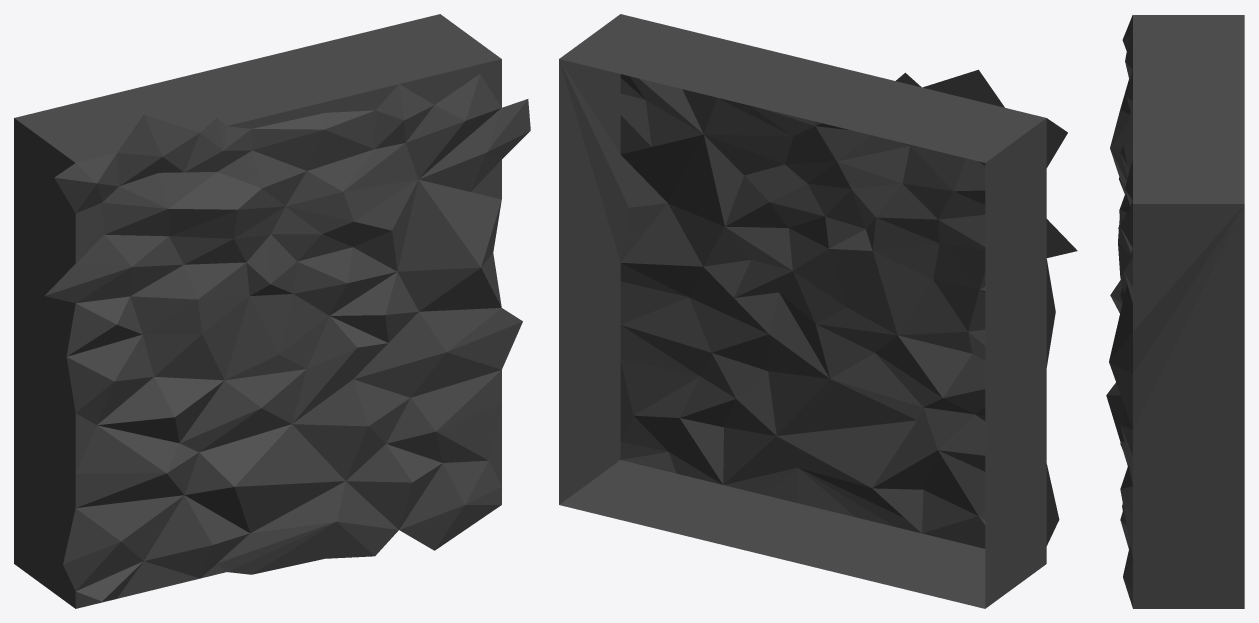
Rendered from Wall_Stone.fbx.
The picture shows the model from 3 angles, left to right: view 1: azimuth 30°, elevation 25°; view 2: azimuth 150°, elevation 25°; view 3: azimuth 270°, elevation 25°; orthographic projection. The views are drawn at different scales.
Visible parts, largest first — view 1: Wall_Stone; view 2: Wall_Stone; view 3: Wall_Stone.
Part boxes in pixels (x1,y1,x2,y2): Wall_Stone: [14, 14, 530, 608]; Wall_Stone: [559, 14, 1077, 608]; Wall_Stone: [1106, 15, 1244, 608].
Size of the model in its own units: 913 by 910 by 248.
